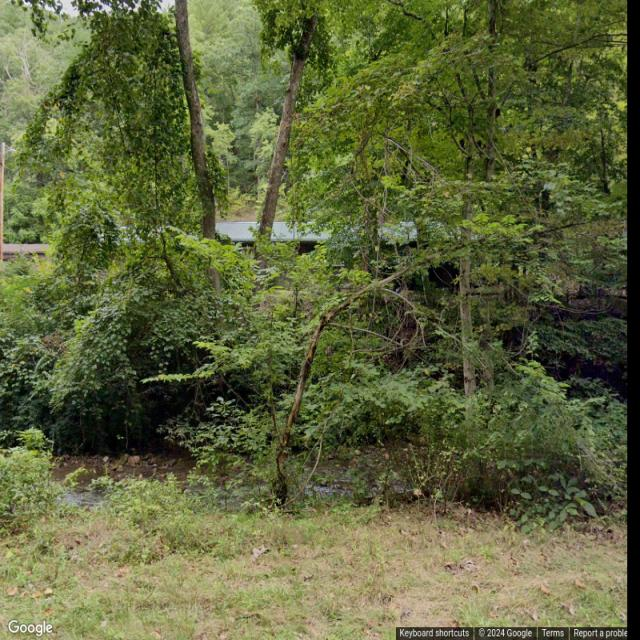House: (202, 221, 626, 313)
